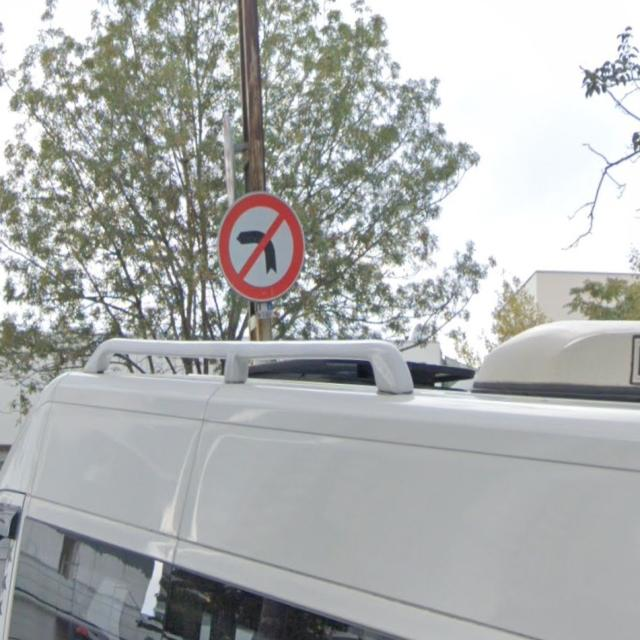soladonulmez: (218, 194, 306, 302)
